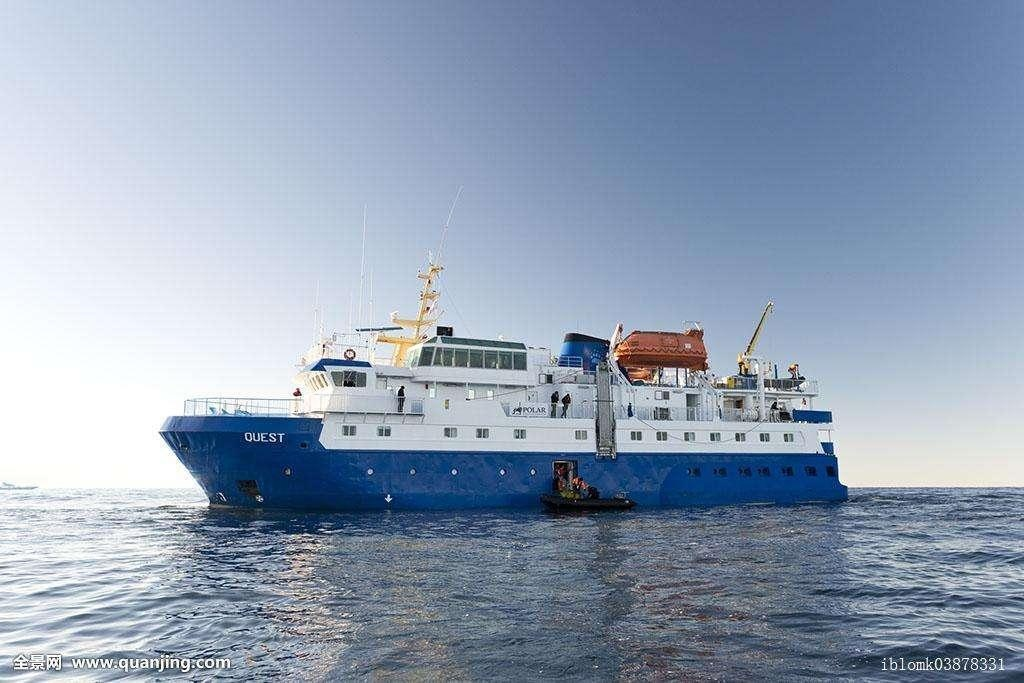youlun: (156, 289, 855, 513)
